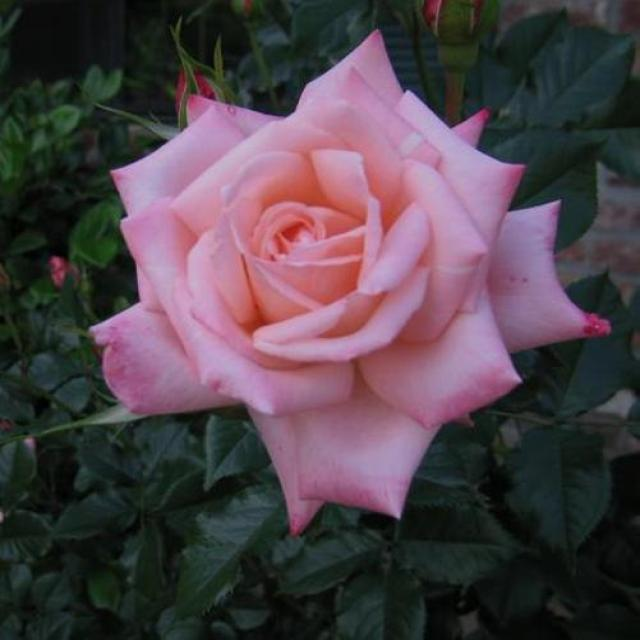rose: (68, 9, 640, 550)
